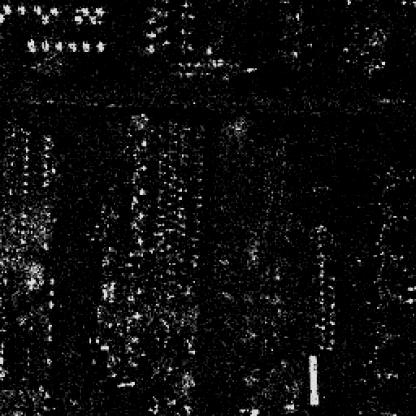airplane: (94, 41, 106, 52), (26, 39, 37, 50), (39, 39, 49, 50), (66, 42, 76, 52), (81, 42, 91, 52), (1, 1, 10, 12), (71, 14, 83, 22), (87, 16, 98, 24), (32, 3, 40, 13), (49, 5, 57, 15), (80, 6, 90, 14), (92, 6, 102, 14), (54, 40, 62, 50), (16, 5, 24, 13), (41, 13, 47, 23)
